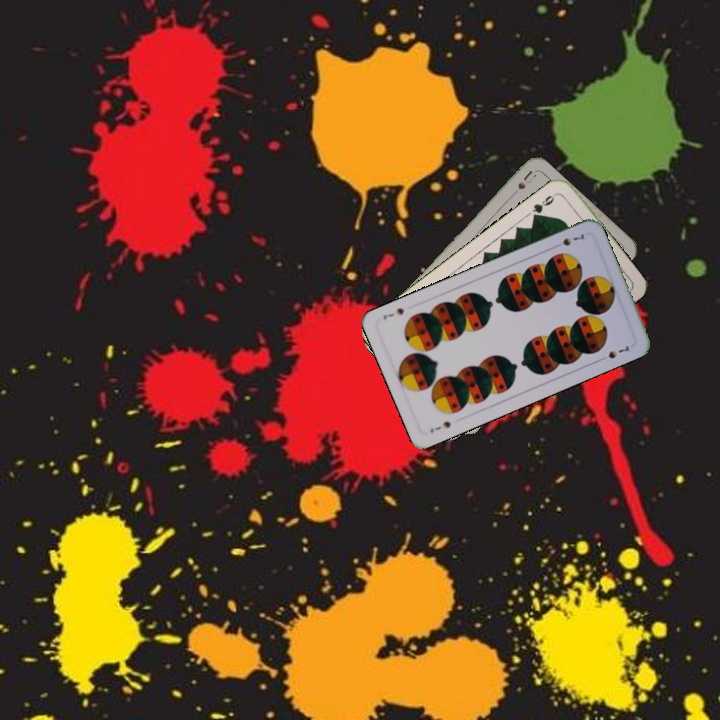G9: (528, 189, 560, 222)
S7: (550, 230, 588, 251), (426, 417, 453, 436)
SU: (505, 167, 538, 202)
